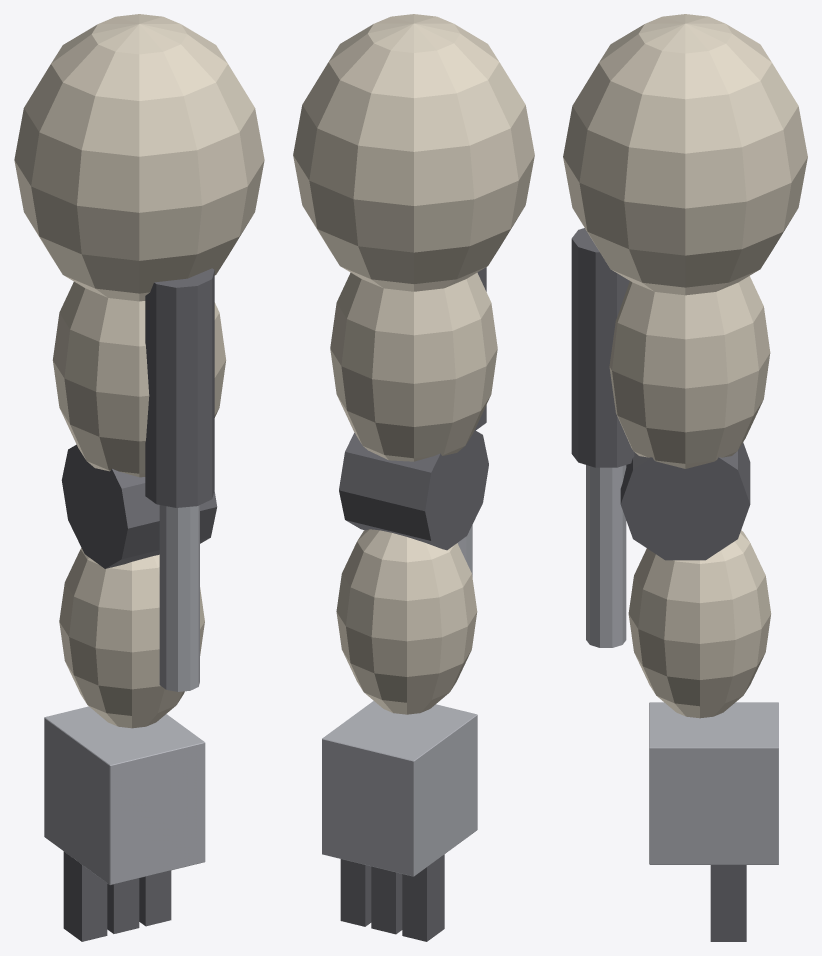
Rendered from sinew-arm.glb.
3 views of the same model, side by side, from view 1: azimuth 30°, elevation 25°; view 2: azimuth 150°, elevation 25°; view 3: azimuth 270°, elevation 25° (orthographic). The views are drawn at different scales.
Parts seen in each view (by area): view 1: delt, hand, bicep, sleeve, forearm, elbow, rod, fing0, fing1, fing2; view 2: delt, bicep, hand, forearm, elbow, fing0, fing1, fing2; view 3: delt, bicep, hand, forearm, elbow, sleeve, rod, fing2.
Boxes of the visible parts, x1=… form: delt: x1=14, y1=14, x2=264, y2=301; hand: x1=44, y1=706, x2=205, y2=885; bicep: x1=52, y1=282, x2=226, y2=477; sleeve: x1=145, y1=268, x2=214, y2=507; forearm: x1=59, y1=548, x2=204, y2=728; elbow: x1=61, y1=444, x2=217, y2=568; rod: x1=159, y1=505, x2=199, y2=691; fing0: x1=63, y1=851, x2=107, y2=941; fing1: x1=107, y1=878, x2=139, y2=933; fing2: x1=139, y1=870, x2=171, y2=926; delt: x1=293, y1=14, x2=534, y2=291; bicep: x1=330, y1=272, x2=497, y2=461; hand: x1=322, y1=701, x2=477, y2=876; forearm: x1=336, y1=529, x2=477, y2=714; elbow: x1=339, y1=430, x2=488, y2=550; fing0: x1=402, y1=854, x2=444, y2=941; fing1: x1=371, y1=866, x2=402, y2=934; fing2: x1=340, y1=859, x2=371, y2=926; delt: x1=563, y1=14, x2=807, y2=295; bicep: x1=609, y1=276, x2=770, y2=468; hand: x1=649, y1=702, x2=778, y2=864; forearm: x1=628, y1=530, x2=771, y2=718; elbow: x1=620, y1=442, x2=750, y2=560; sleeve: x1=571, y1=228, x2=635, y2=467; rod: x1=586, y1=465, x2=626, y2=647; fing2: x1=710, y1=865, x2=746, y2=941.
Bounding box in the file's own units: 0.17 × 0.687 × 0.17.
